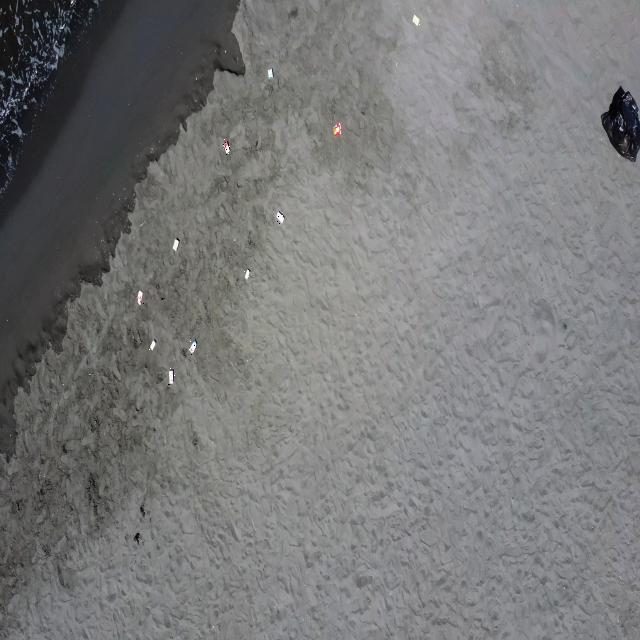retort-pouch: (136, 289, 144, 307), (333, 122, 342, 138), (168, 368, 176, 386), (172, 237, 181, 253), (189, 338, 197, 355), (276, 210, 285, 225), (223, 139, 231, 155), (268, 66, 276, 81), (149, 338, 156, 353), (412, 14, 420, 27), (244, 268, 251, 281)
